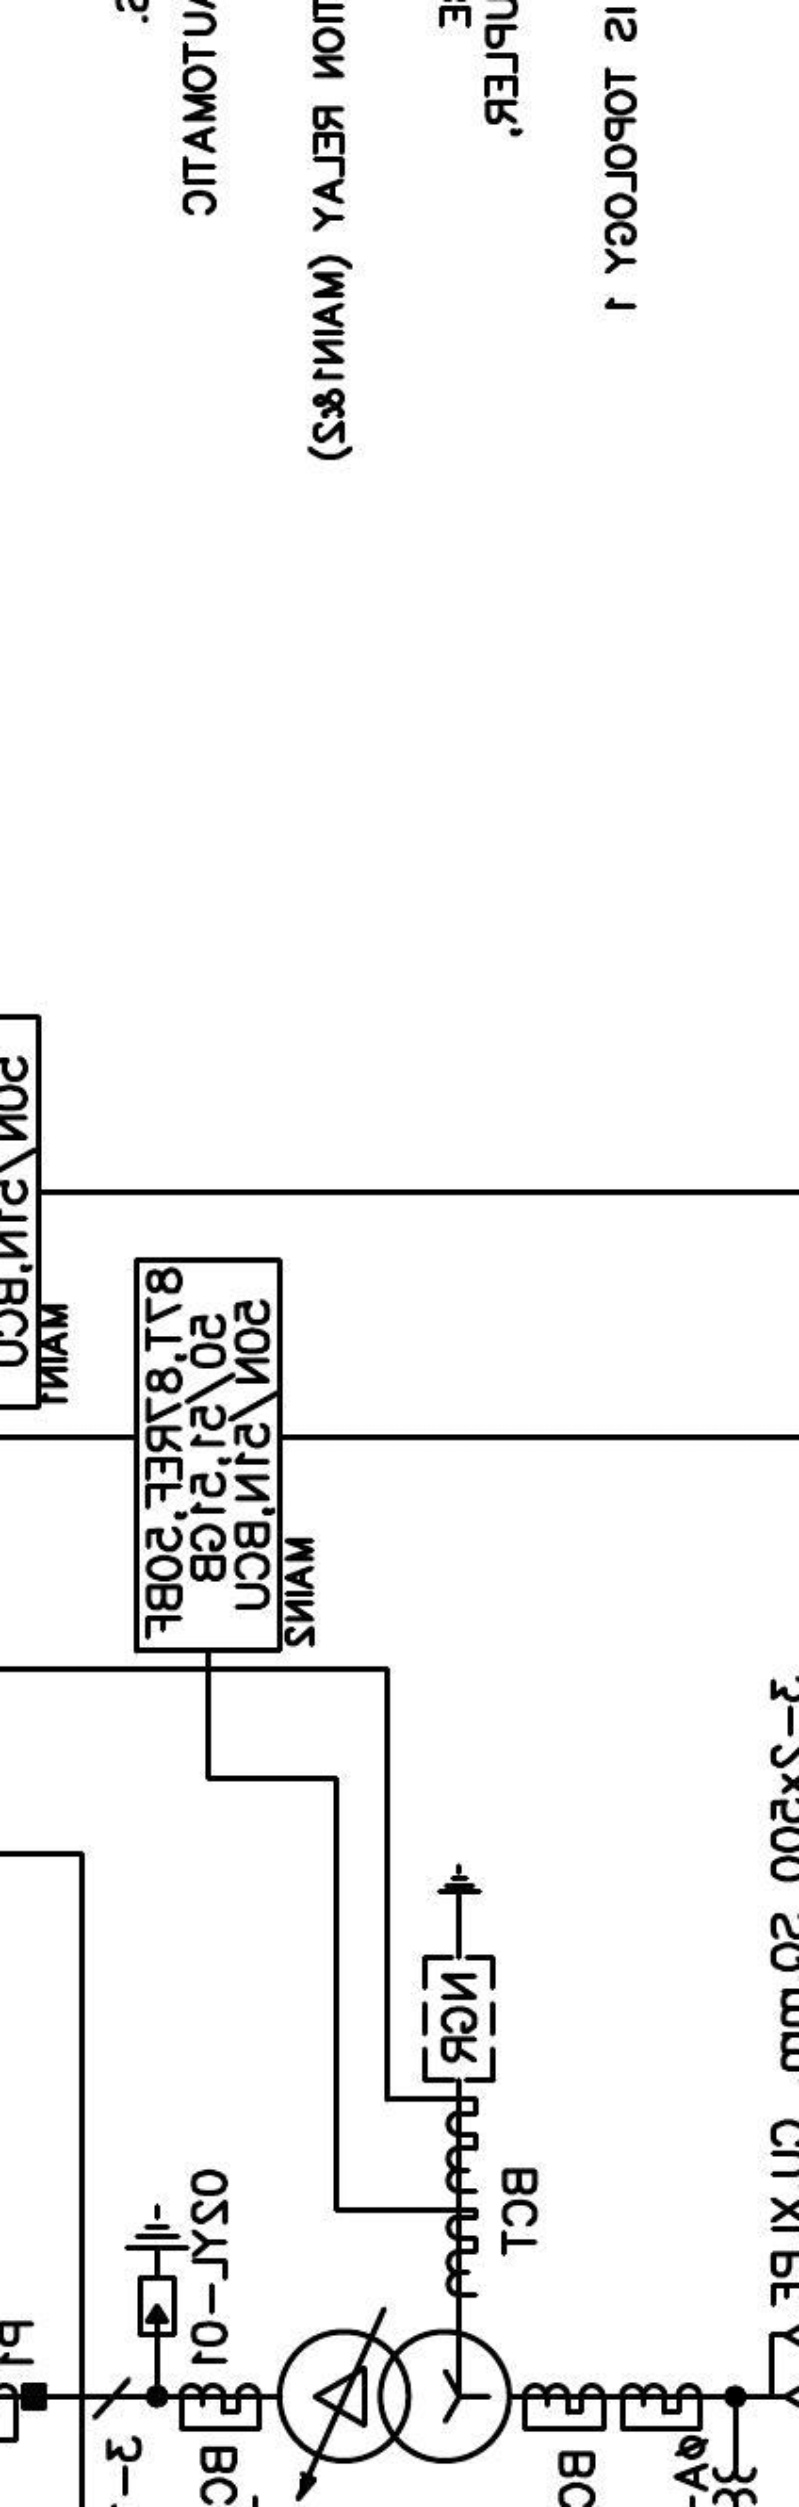11522_tx_dyn1: (276, 2328, 515, 2465)
115_la: (123, 2202, 192, 2339)
NGR_future: (420, 1861, 497, 2083)
